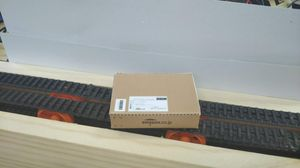box2: (108, 71, 201, 130)
